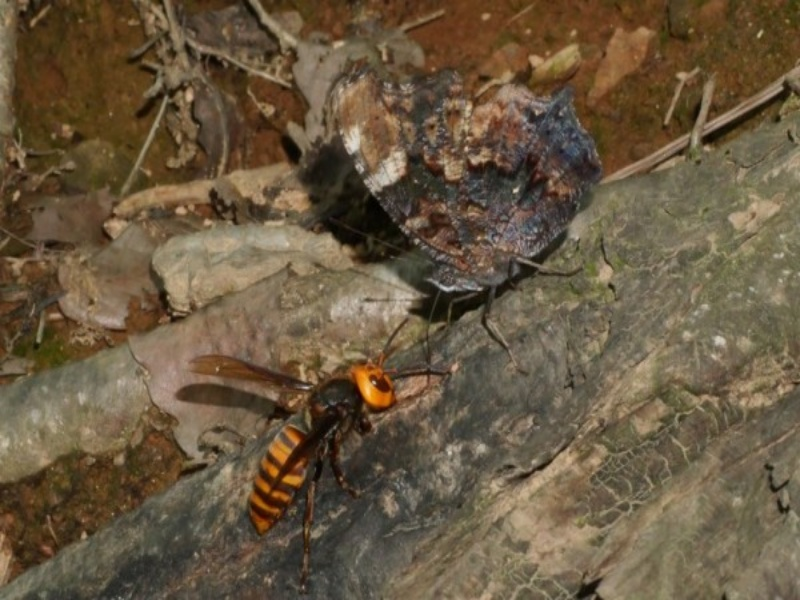asian_giant_hornet: (245, 315, 411, 540)
